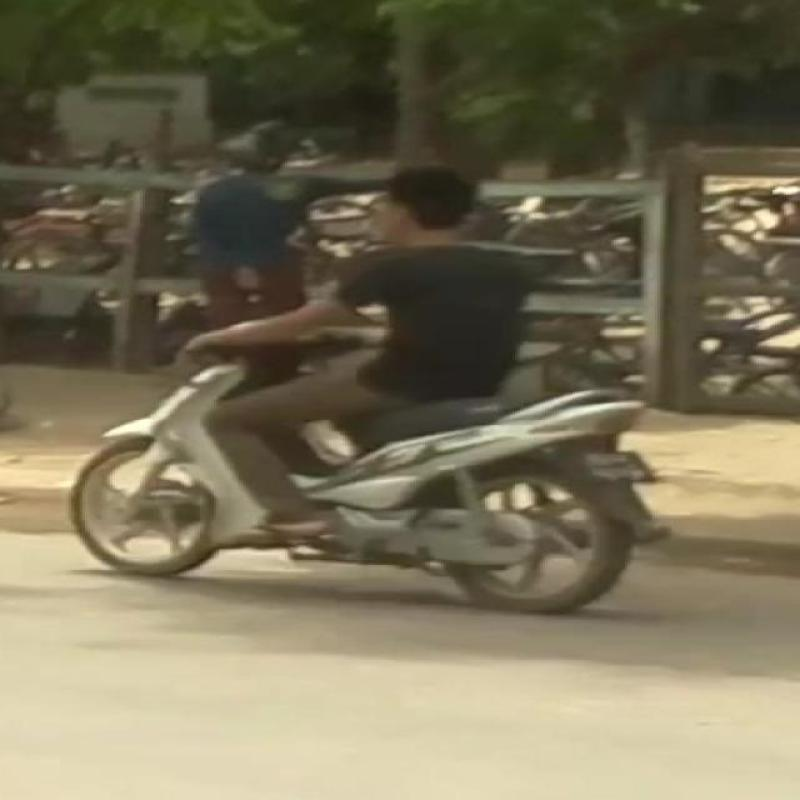nohelmet: (336, 157, 515, 248)
